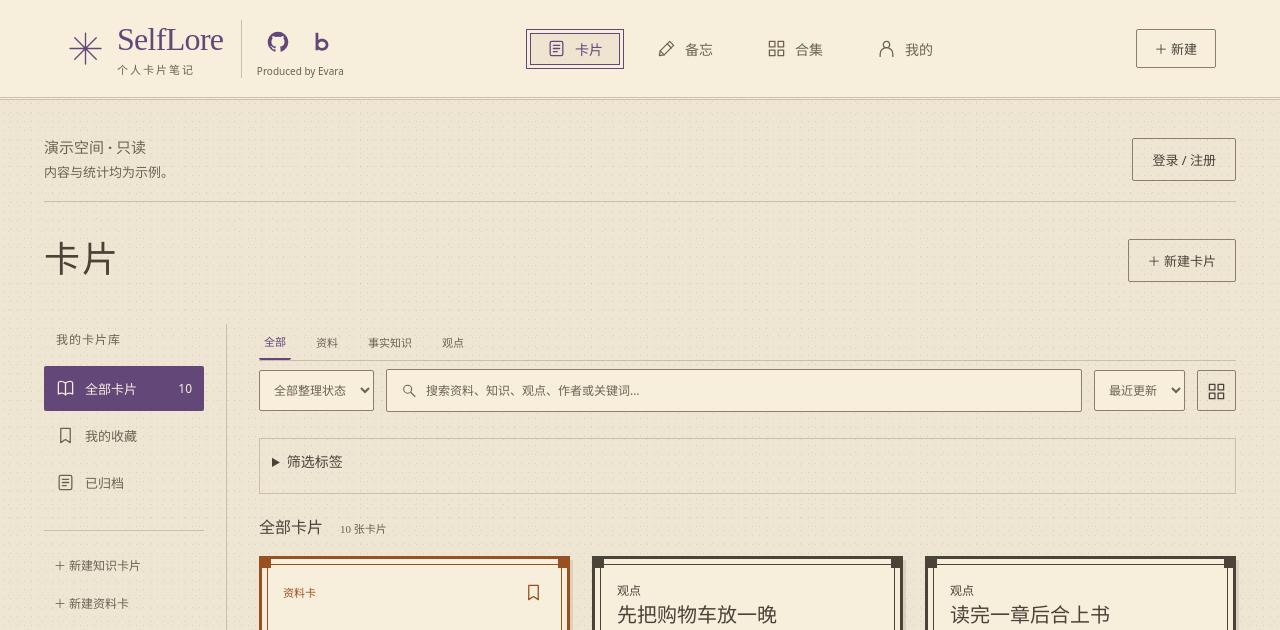
Test case: guest cards hide answers, filter locally and gate bookmark without any write request
The width and height of the screenshot is (1280, 630).
Expected: the text "演示空间 · 只读" is shown, [44,137,146,157]
Expected: the text "主动回忆是先不看材料" is not shown
In the field named "搜索卡片": (746, 390) [426,370,1067,411], type "主动回忆为什么"
(page scrolled)
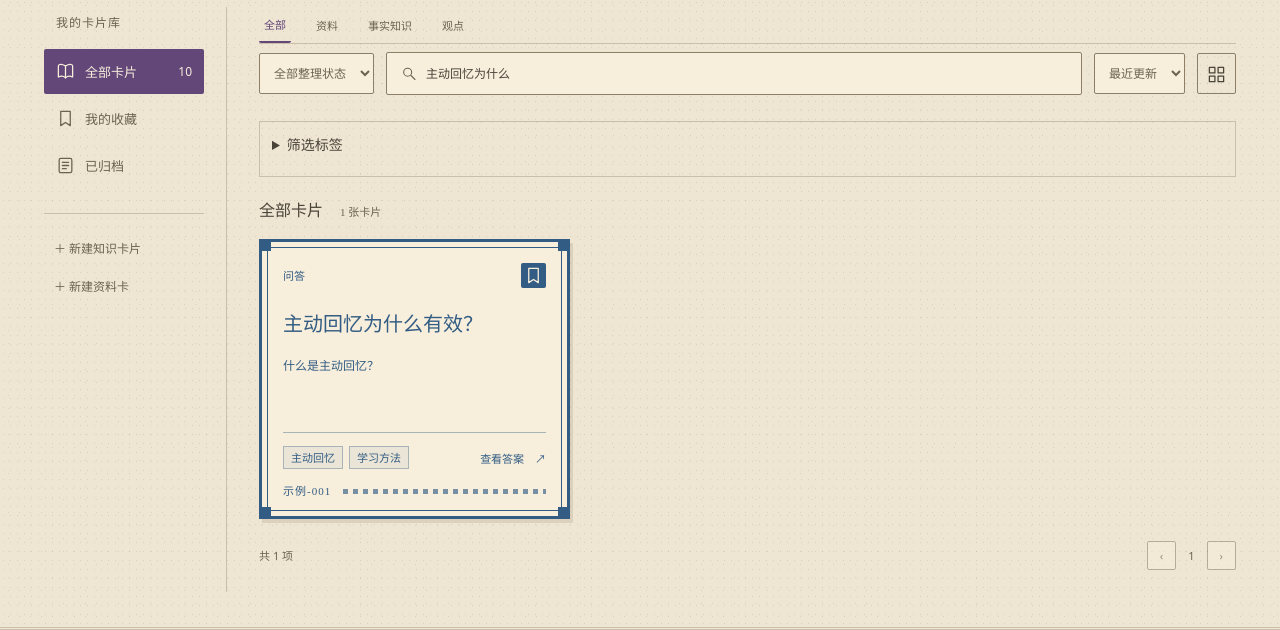
Expected: the number of buttons "查看答案 ↗" is 1
Click the button "查看答案 ↗": (513, 458) [480,450,546,466]
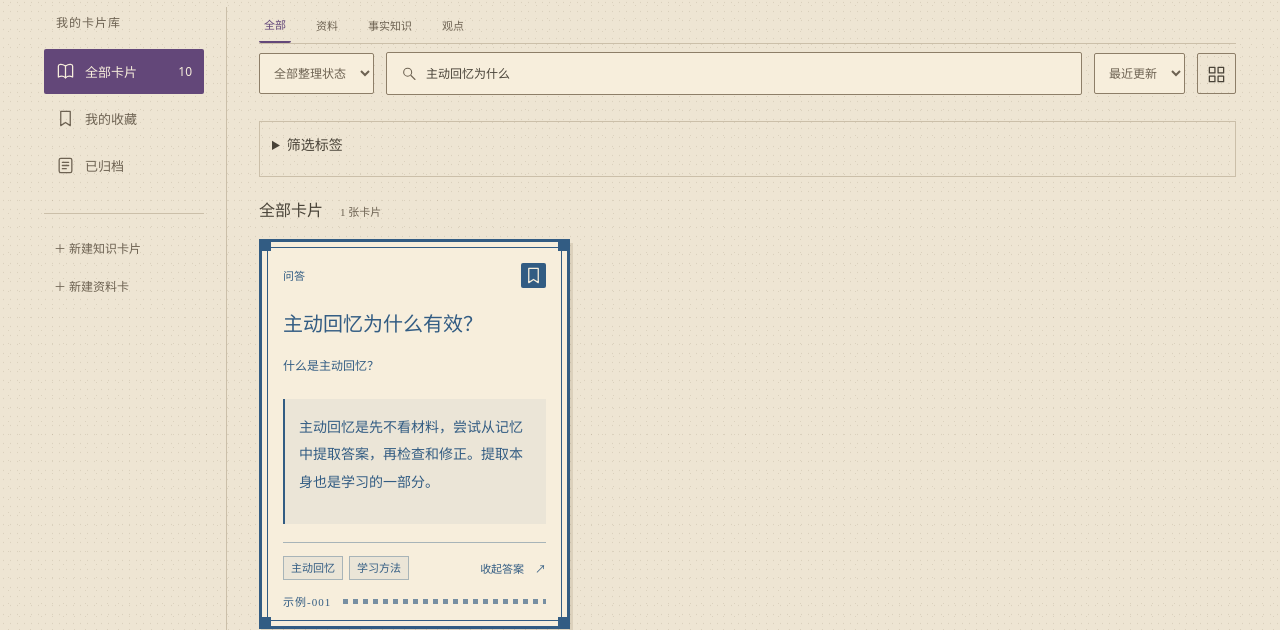
Expected: the text "主动回忆是先不看材料，尝试从记忆中提取答案，再检查和修正。提取本身也是学习的一部分。" is shown, [299,413,532,495]
Click the button named "取消收藏 主动回忆为什么有效？": (534, 275) [521,263,546,288]
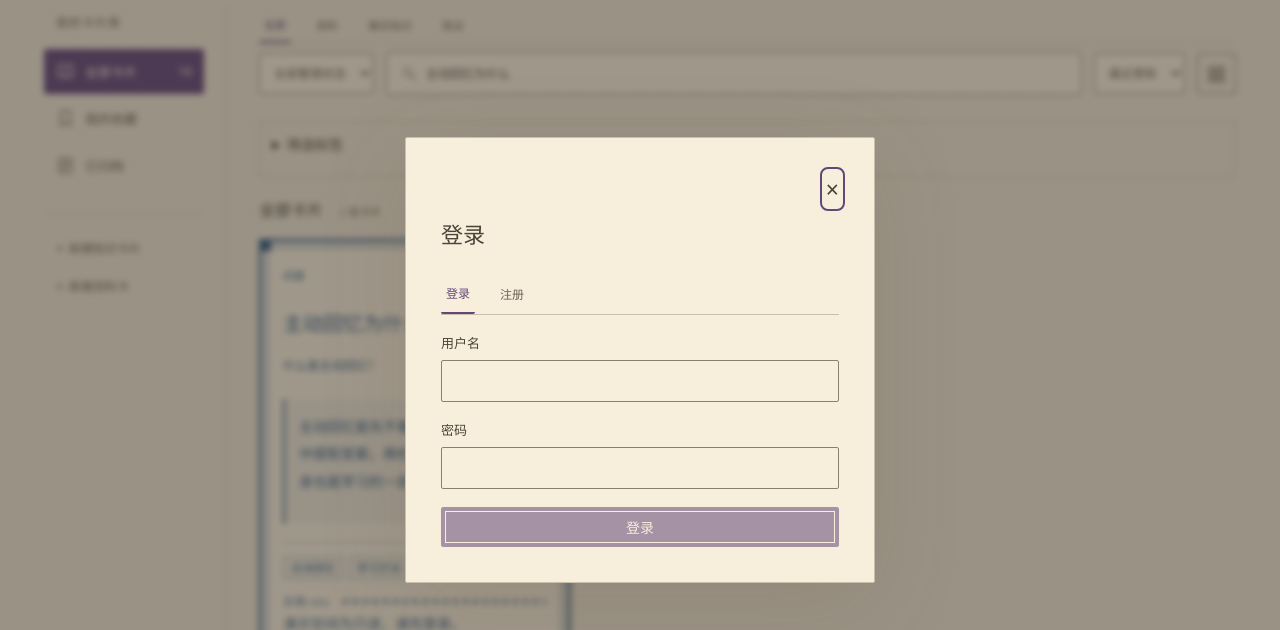
Expected: the tab "注册" is shown, [495,274,529,314]
